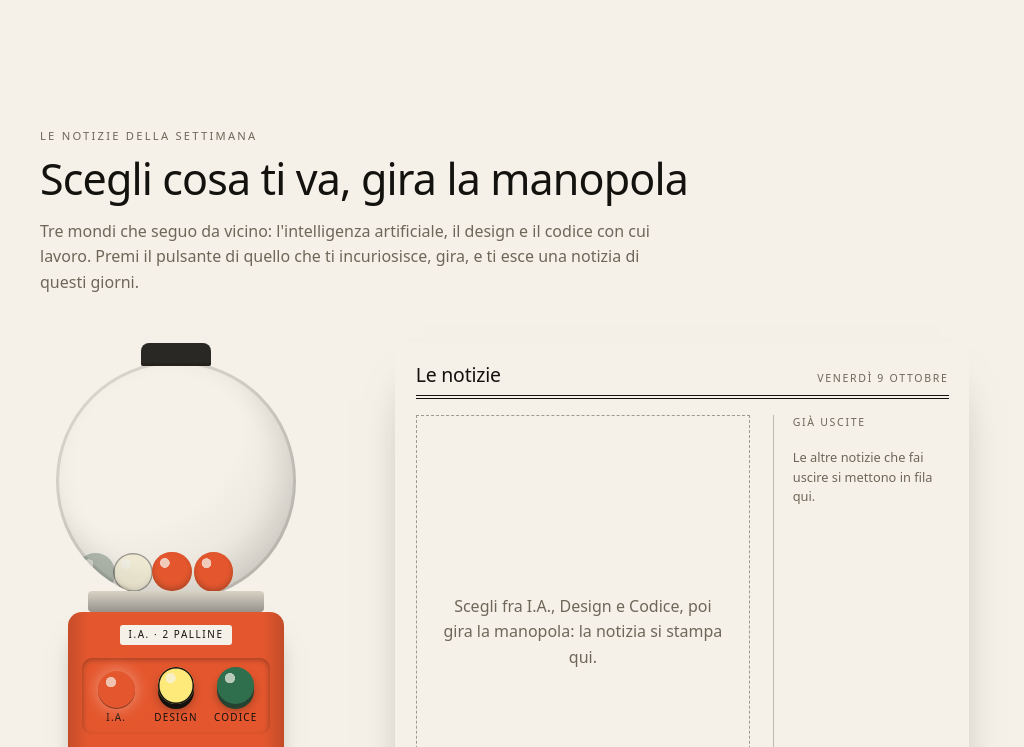
Test case: le notizie: il giro › chiede le notizie a /api/notizie, e la targa conta le palline della categoria
The image size is (1024, 747).
expect the text "I.A. · 2 palline" is shown: met, box [120, 625, 232, 645]
Click the button "Codice".
click(236, 696)  # box [209, 666, 262, 727]
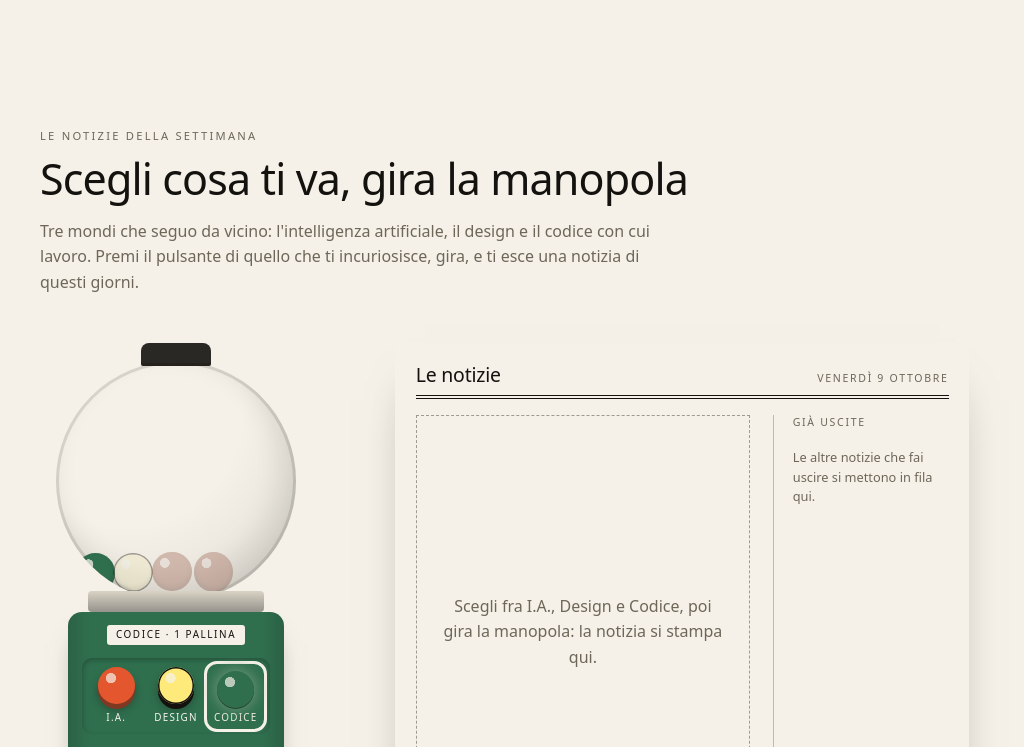
expect the text "Codice · 1 pallina" is shown: met, box [107, 625, 245, 645]
